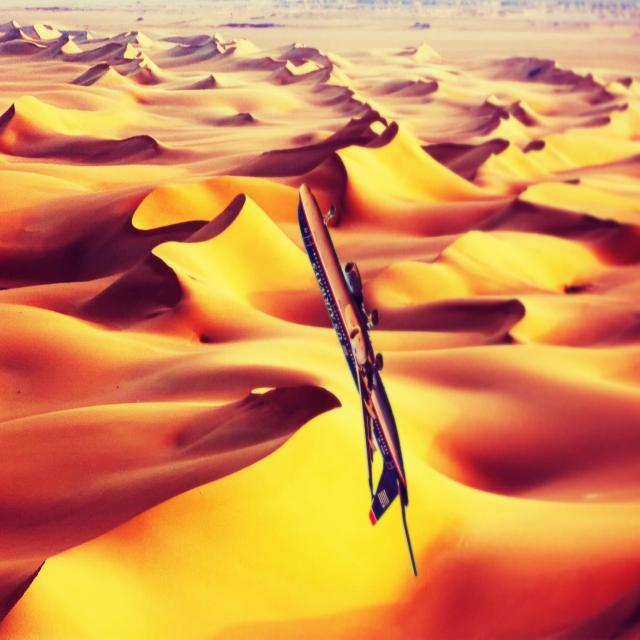airplane: (296, 180, 418, 576)
